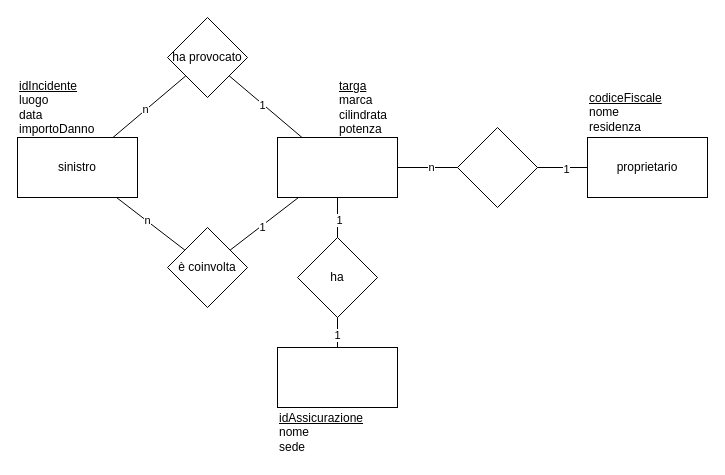
The diagram is 725 pixels wide and 475 high, and some of its shapes have lost their labels. The shapes that lost their labels are listed below. From the top down, each one's centre as x and y in pixels, then its label:
At point 337,167: "auto".
At point 497,167: "possiede".
At point 337,377: "assicurazione".
